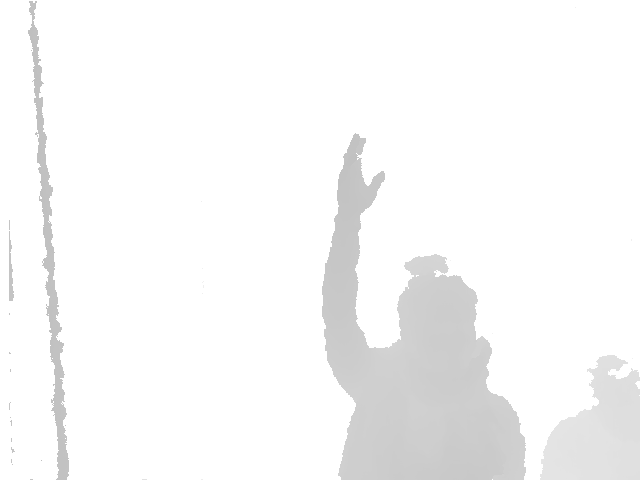hand: (336, 132, 386, 208)
head: (397, 255, 477, 374)
person: (319, 132, 527, 480)
